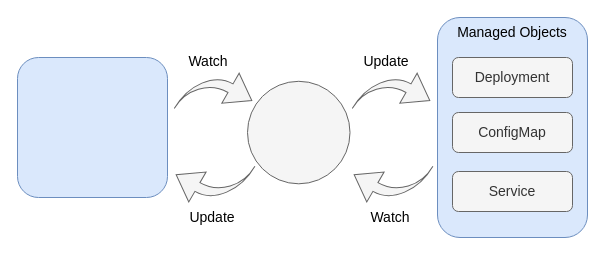
The diagram is 605 pixels wide and 255 high, and some of its shapes have lost their labels. Here are the shapes that lost their labels. From the top down, the centre of each, then its label:
At point 92,127: "Custom Resource Spec Status".
At point 298,132: "Operator Control Loop".
